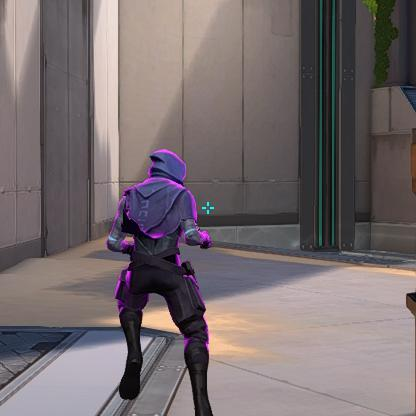enemyBody: (140, 184, 179, 261)
enemyHead: (155, 162, 181, 179)
